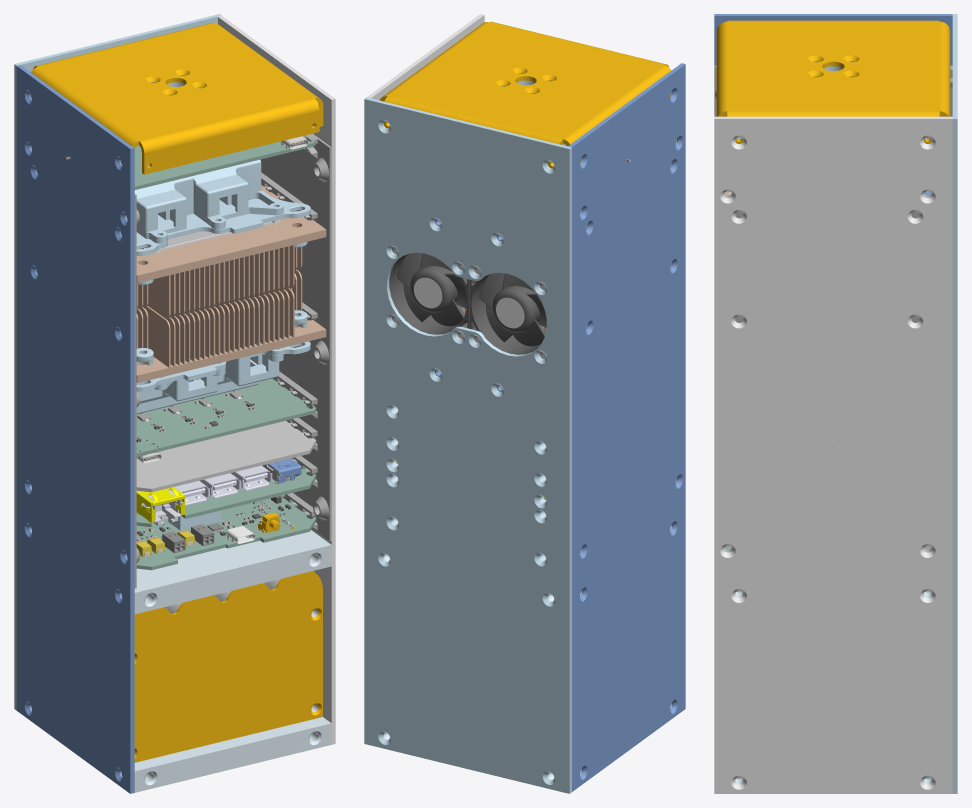
File: main_assembly-opt.glb
3 views of the same model, side by side, from view 1: azimuth 30°, elevation 25°; view 2: azimuth 150°, elevation 25°; view 3: azimuth 270°, elevation 25° (orthographic). The views are drawn at different scales.
Visible parts, largest first — view 1: Back_Plate_Heatsink_Connector_primitive0, 86092326314755V1LF_primitive0, Heatsink_primitive0, thread_handle_primitive0, sensor_board_PCB_primitive0, Drawer_Structure_Mirrored_primitive0, Mid_Plate_primitive0, Right_Panel_primitive0, Part 2_primitive0, 86092325313755ELF_primitive0, R_0603_1608Metric_32_primitive2, tab down type_primitive0 (+2 smaller); view 2: thread_handle_primitive0, Back_Plate_Heatsink_Connector_primitive0, 86092326314755V1LF_primitive0, 4020 Fan_primitive1, 4020 Fan_primitive0, Right_Panel_primitive0; view 3: Right_Panel_primitive0, 86092326314755V1LF_primitive0, thread_handle_primitive0, Back_Plate_Heatsink_Connector_primitive0, Drawer_Structure_Mirrored_primitive0.
Part boxes in pixels (<box>): Back_Plate_Heatsink_Connector_primitive0: <box>16,65,301,793</box>; 86092326314755V1LF_primitive0: <box>30,23,323,762</box>; Heatsink_primitive0: <box>136,185,326,382</box>; thread_handle_primitive0: <box>14,14,310,710</box>; sensor_board_PCB_primitive0: <box>134,136,316,570</box>; Drawer_Structure_Mirrored_primitive0: <box>30,133,331,588</box>; Mid_Plate_primitive0: <box>30,525,331,792</box>; Right_Panel_primitive0: <box>160,16,335,744</box>; Part 2_primitive0: <box>136,421,316,492</box>; 86092325313755ELF_primitive0: <box>137,465,272,525</box>; R_0603_1608Metric_32_primitive2: <box>66,136,308,556</box>; tab down type_primitive0: <box>136,487,184,522</box>; thread_handle_primitive0: <box>364,73,571,793</box>; Back_Plate_Heatsink_Connector_primitive0: <box>435,63,685,791</box>; 86092326314755V1LF_primitive0: <box>379,21,671,168</box>; 4020 Fan_primitive1: <box>389,247,546,358</box>; 4020 Fan_primitive0: <box>414,277,524,328</box>; Right_Panel_primitive0: <box>367,14,484,100</box>; Right_Panel_primitive0: <box>714,116,952,793</box>; 86092326314755V1LF_primitive0: <box>716,20,950,143</box>; thread_handle_primitive0: <box>729,14,957,793</box>; Back_Plate_Heatsink_Connector_primitive0: <box>714,14,952,195</box>; Drawer_Structure_Mirrored_primitive0: <box>714,65,952,552</box>.
Bounding box in the file's own units: 0.1041 × 0.3 × 0.098.
